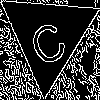C: (23, 11, 70, 69)
